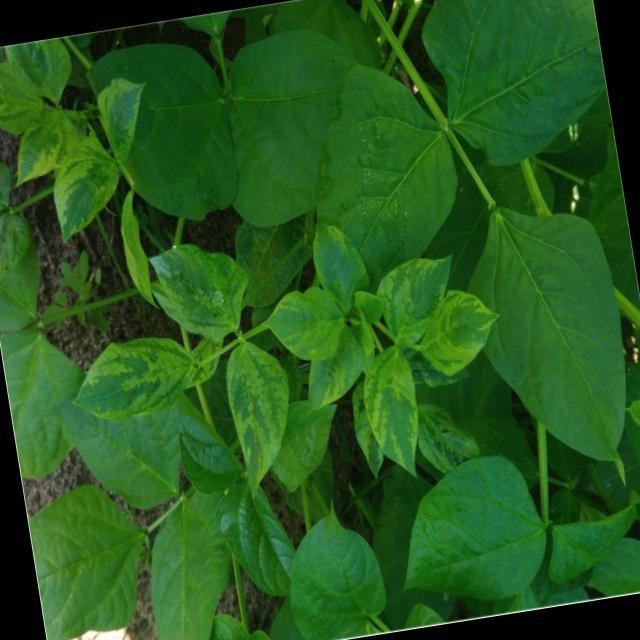Mosaic Virus: (68, 326, 198, 426), (148, 229, 253, 346), (220, 338, 294, 486), (362, 344, 432, 477), (413, 284, 501, 375), (50, 143, 124, 251), (298, 324, 366, 427), (261, 278, 349, 357), (374, 252, 447, 347), (306, 217, 372, 318), (5, 36, 76, 104), (92, 78, 152, 156), (6, 110, 68, 183), (0, 56, 39, 138)
